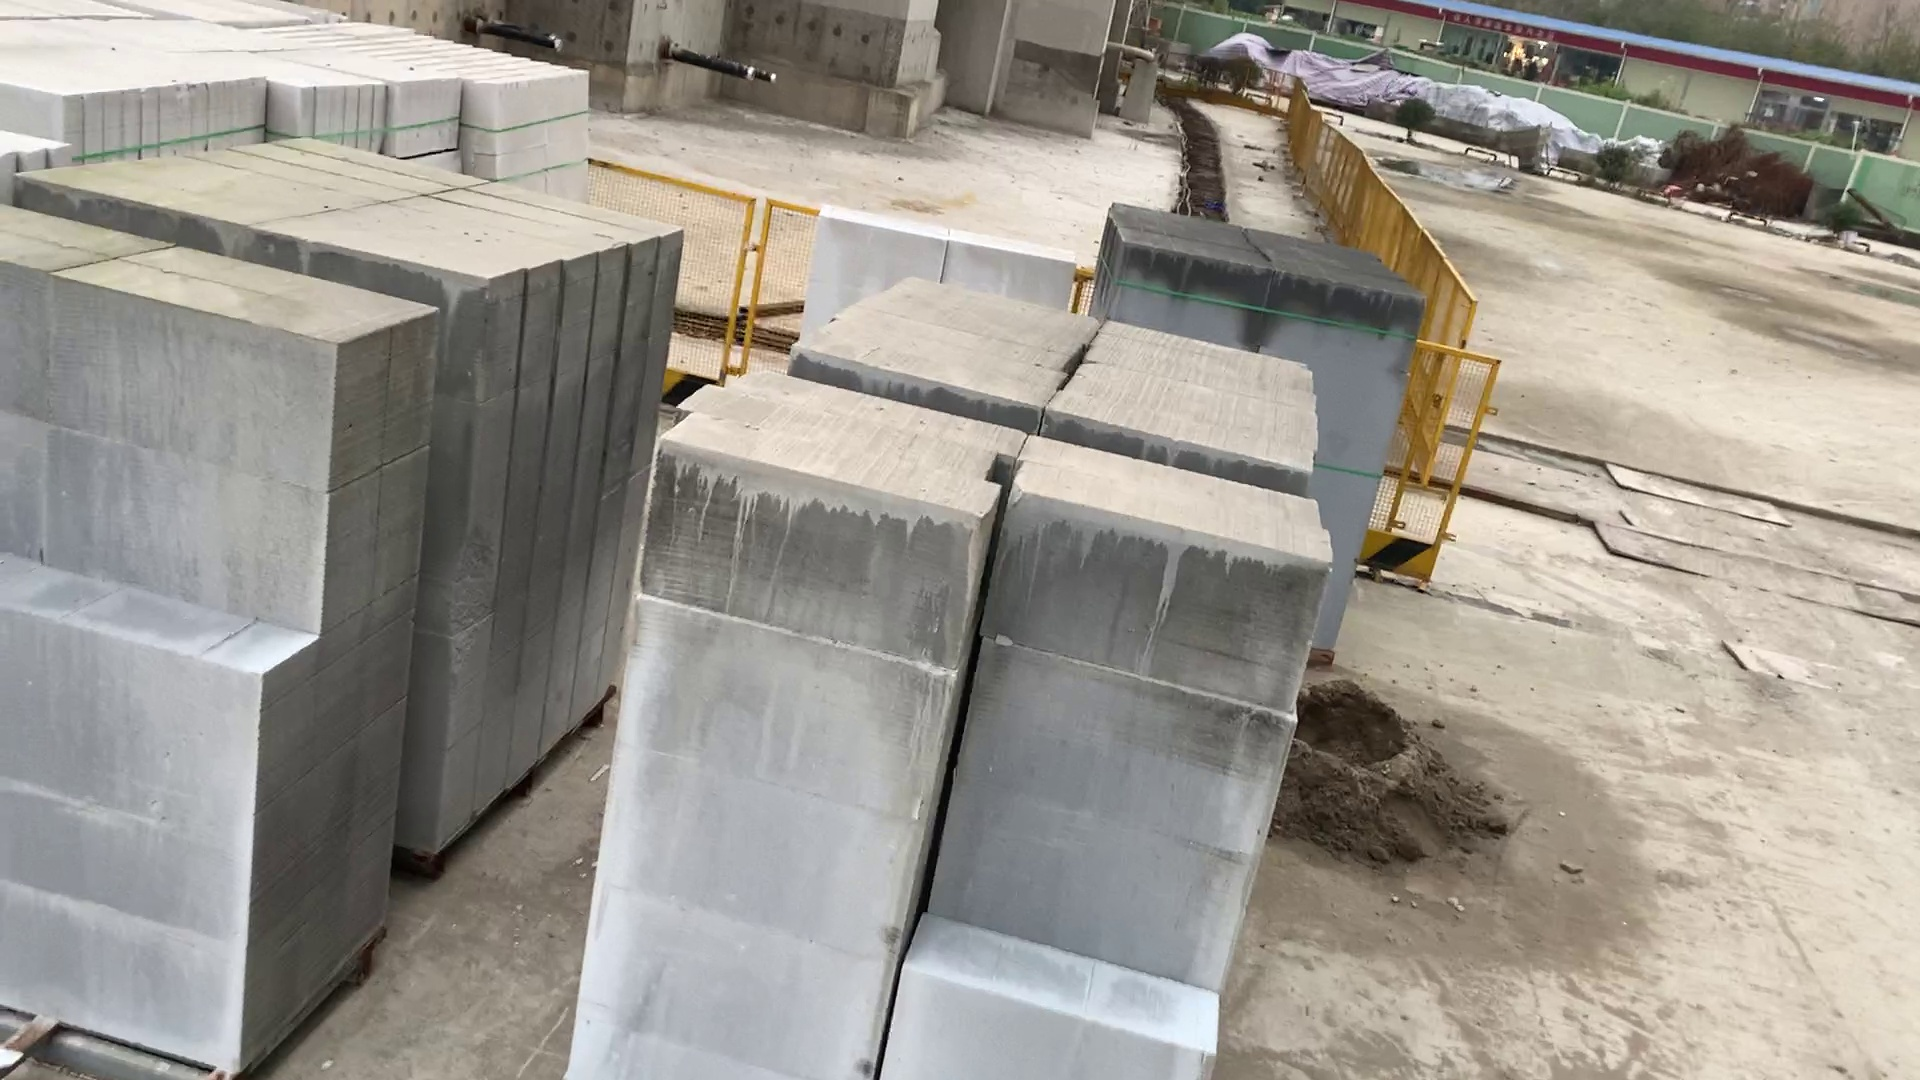brickwork: (637, 382, 1275, 1080), (3, 211, 400, 1069), (1097, 202, 1422, 659), (29, 120, 688, 334), (803, 260, 1317, 464), (264, 25, 592, 166), (7, 30, 262, 150)
